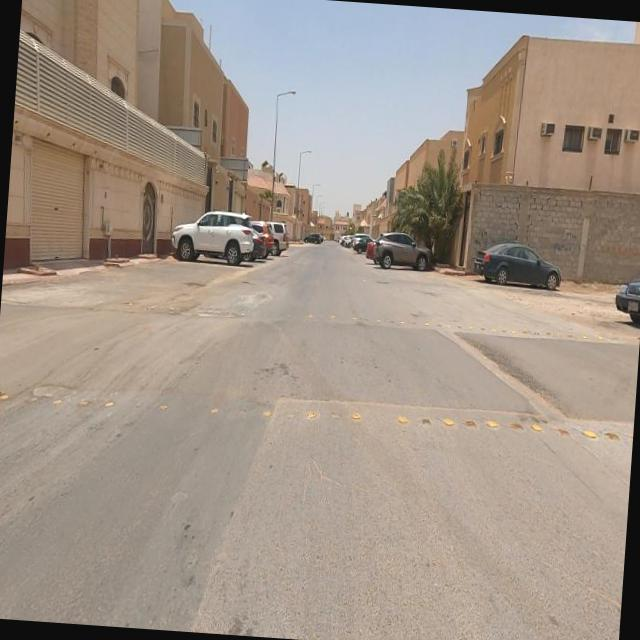debris: (526, 207, 600, 280)
